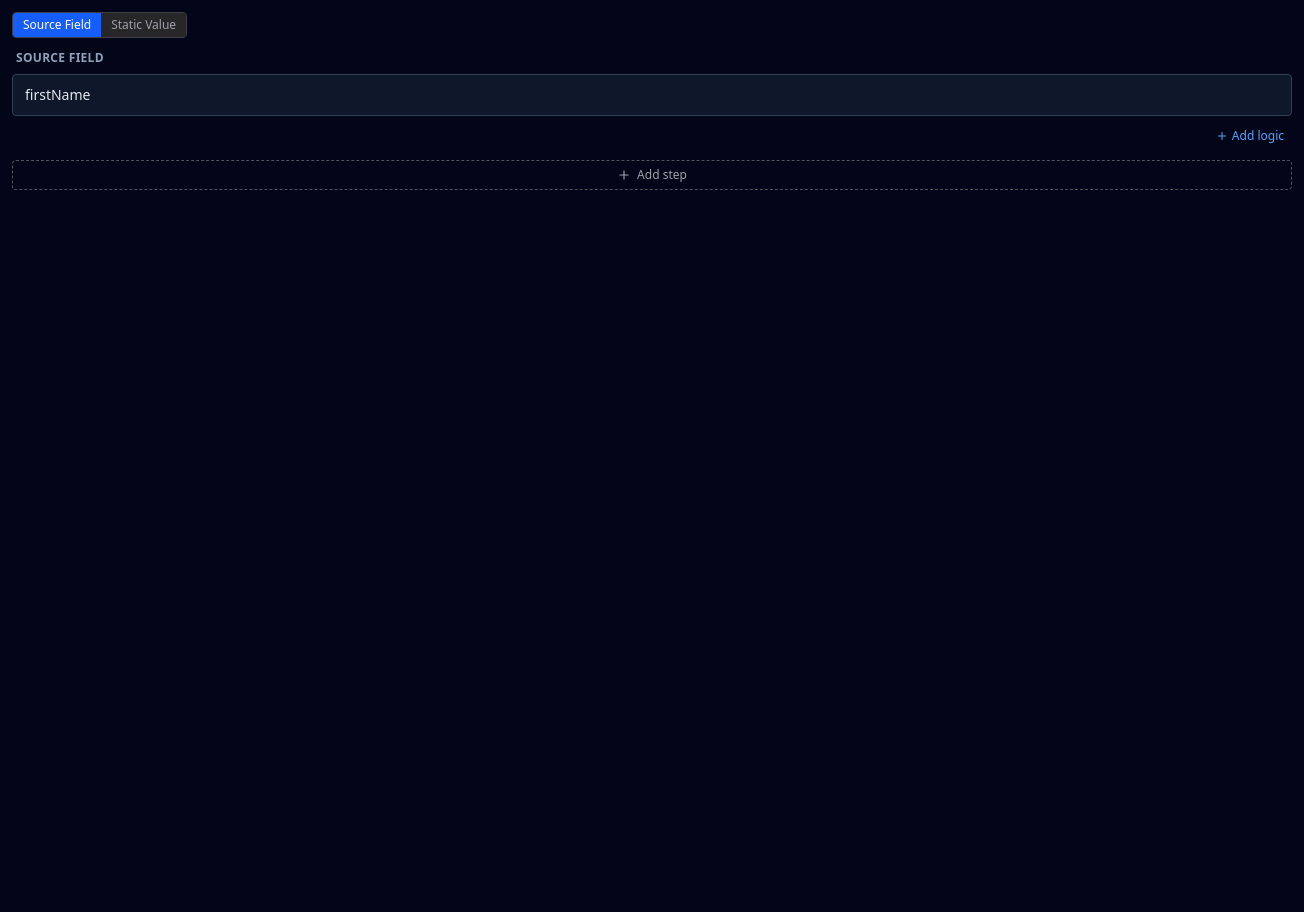
Test: ChainBuilder › closes step picker after adding a value map
Click the button with test id "chain-add-step-btn": {"x": 652, "y": 175} [12,160,1292,190]
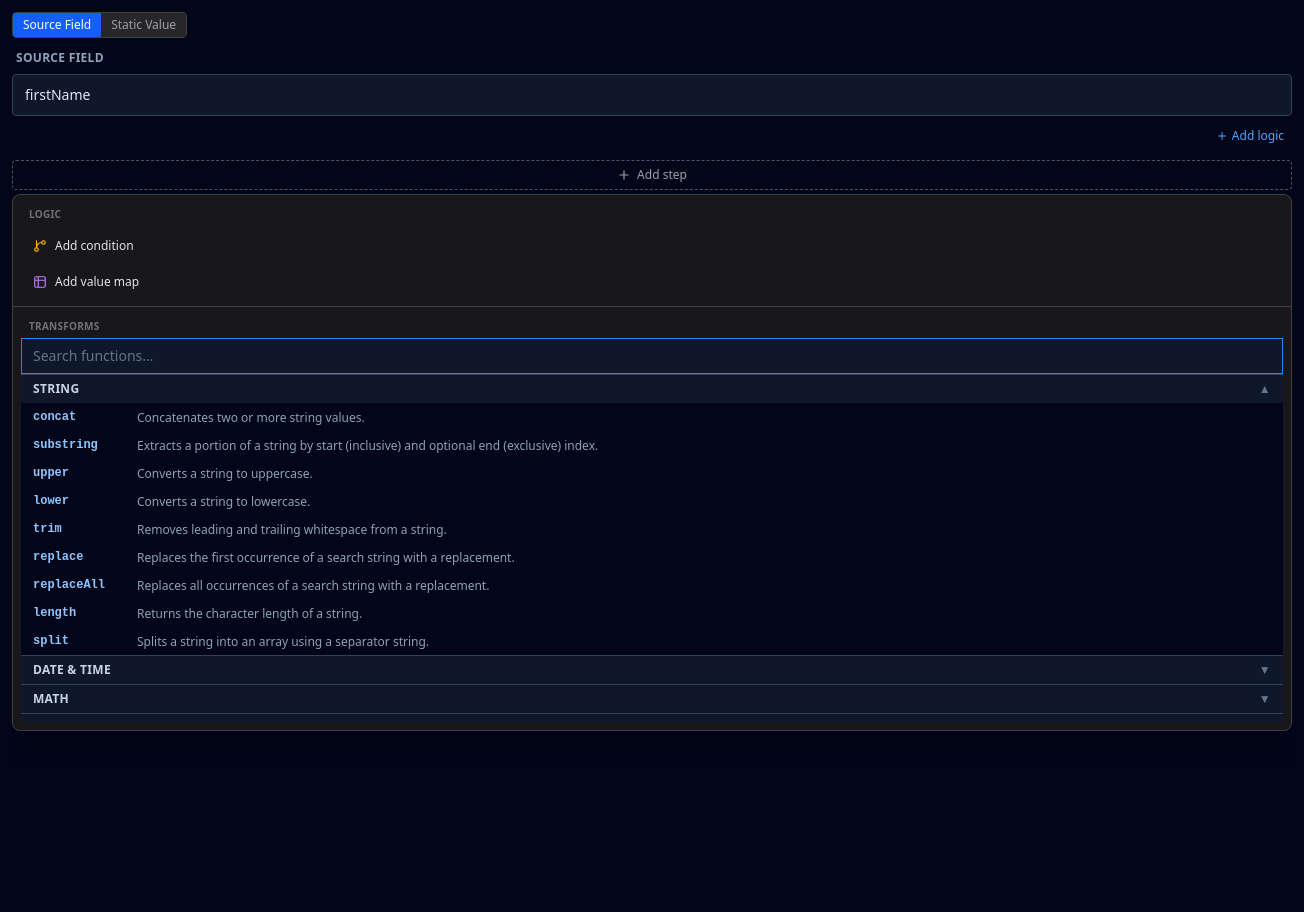
Click the button with test id "chain-step-picker-valuemap": {"x": 97, "y": 282} [21,266,1283,298]
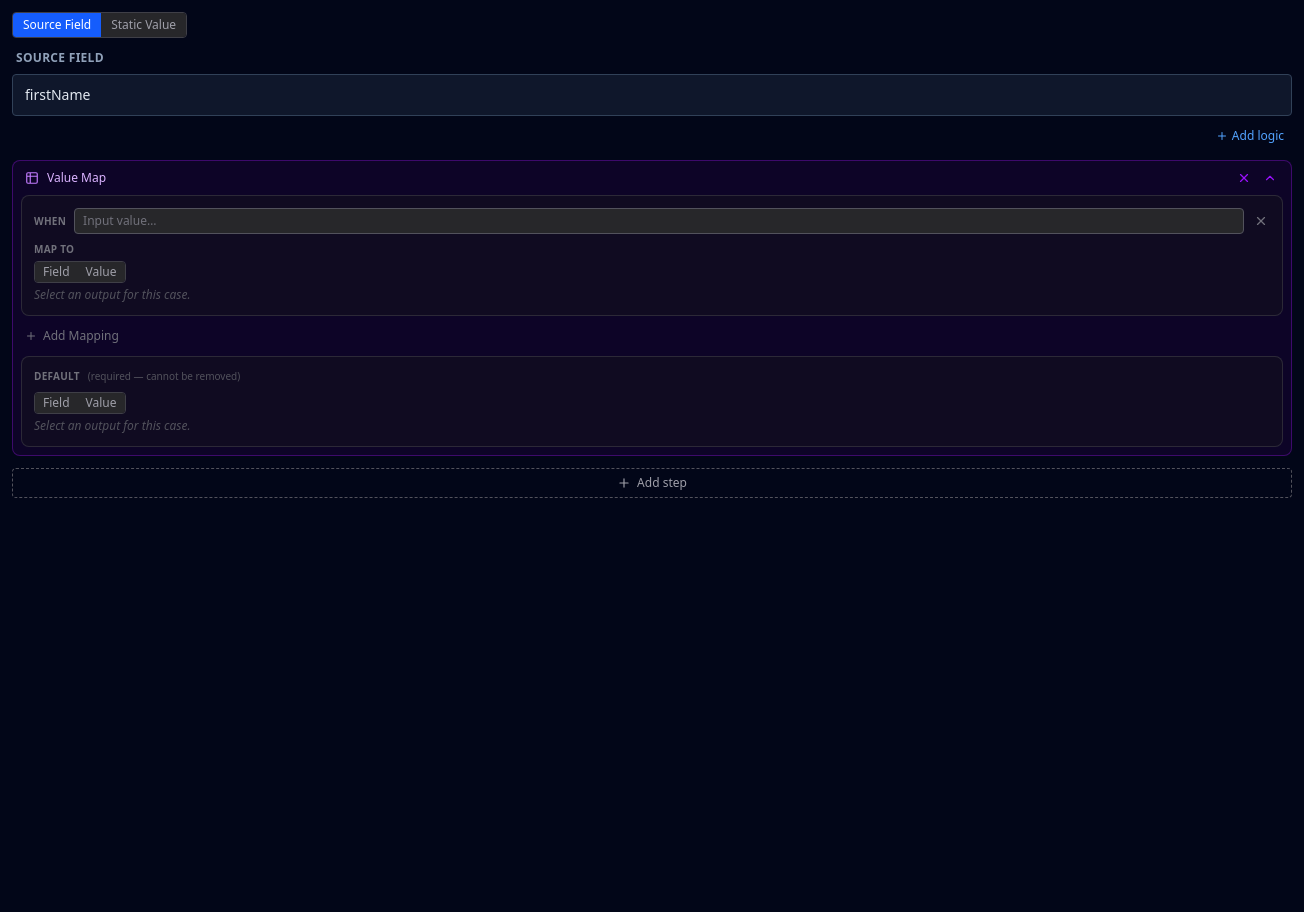
Check: the element with test id "chain-step-picker" is gone
